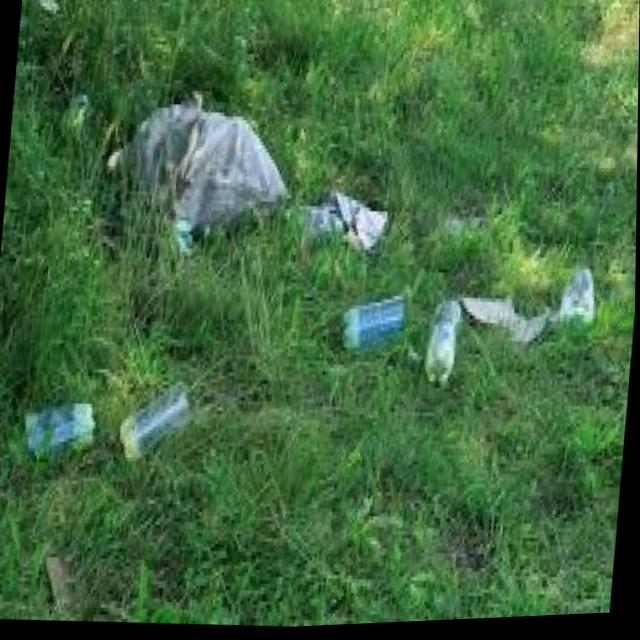leaf: (0, 364, 105, 480), (115, 362, 208, 483), (326, 283, 420, 362), (421, 298, 470, 394), (558, 253, 607, 345)
metal: (101, 88, 290, 261)
wood: (285, 157, 405, 291)
